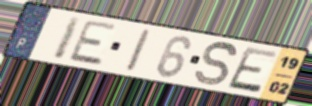6: (154, 34, 193, 80)
E: (225, 46, 281, 95), (66, 19, 120, 68)
I: (50, 15, 84, 62), (124, 27, 154, 74)
S: (193, 40, 239, 88)
